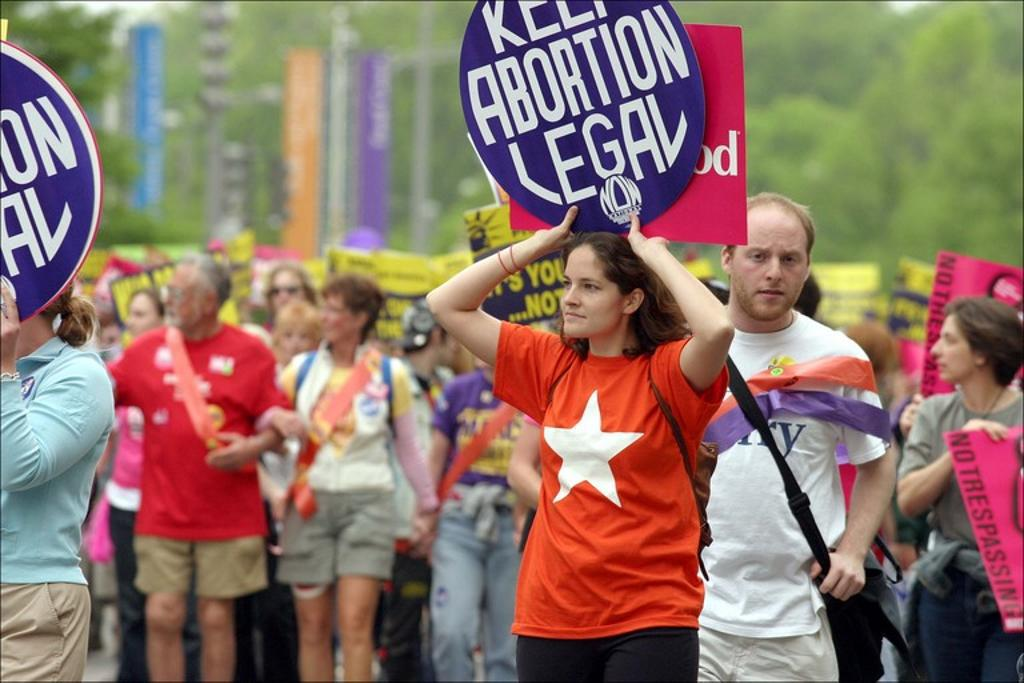face: (735, 216, 809, 319), (561, 255, 623, 338), (931, 318, 975, 381), (162, 271, 202, 326), (276, 316, 313, 365), (321, 295, 355, 341), (432, 314, 461, 366), (126, 301, 159, 342), (273, 280, 305, 317), (97, 328, 119, 357)
